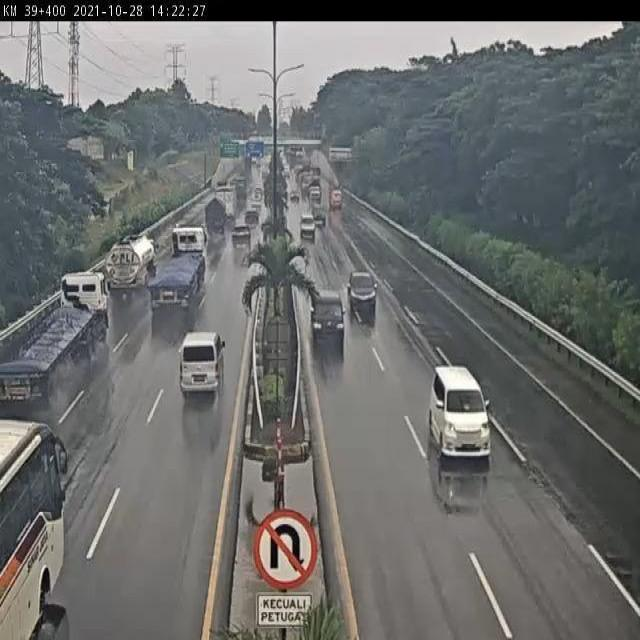big bus: (0, 414, 65, 640)
car: (429, 368, 492, 460), (178, 329, 226, 396), (309, 292, 344, 344), (347, 265, 380, 312)
truck-l-: (102, 231, 160, 296)
truck-xl-: (0, 270, 109, 414), (149, 225, 210, 307)
